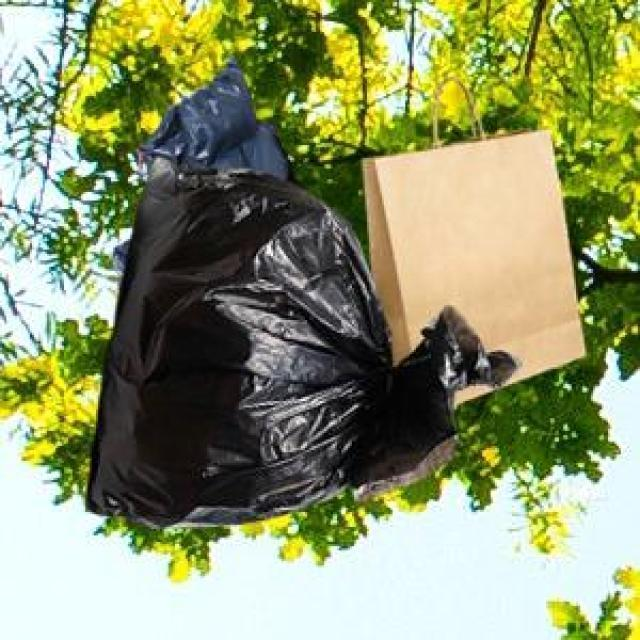miscellaneous trash: (81, 154, 516, 525), (109, 51, 296, 288)
paper: (358, 75, 580, 401)
